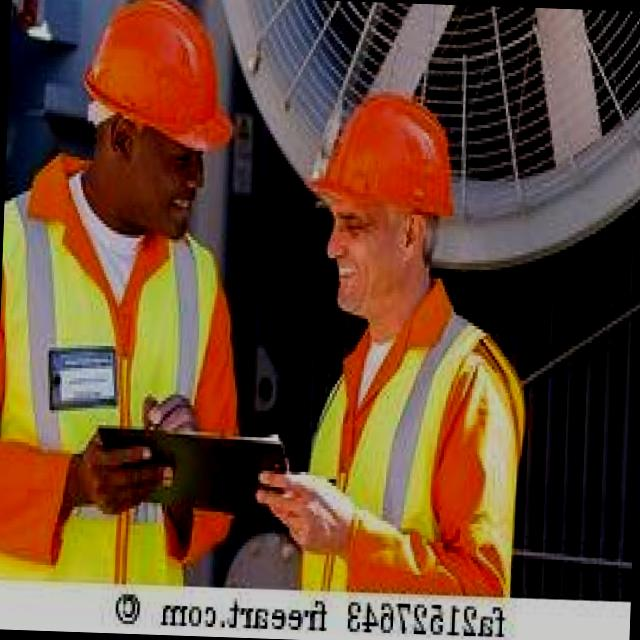helmet: (67, 0, 246, 165), (297, 85, 463, 239)
vest: (0, 200, 222, 583), (275, 303, 536, 592)
